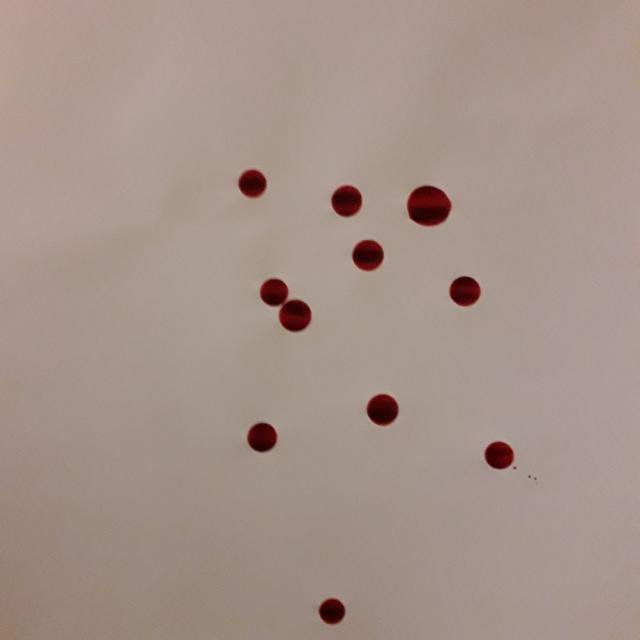wound: (242, 263, 328, 347), (398, 170, 464, 238), (216, 154, 284, 216), (340, 229, 400, 281), (462, 433, 528, 480), (436, 268, 497, 316), (232, 413, 292, 461), (316, 173, 374, 222), (352, 382, 408, 432), (309, 590, 361, 634)
